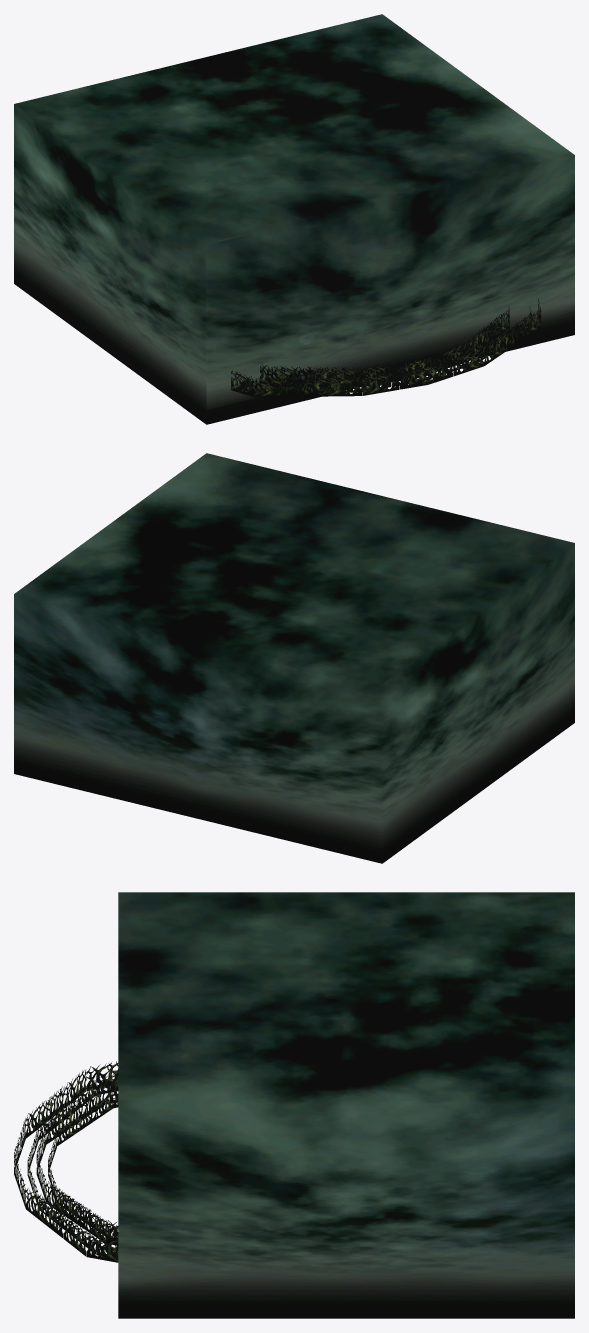
File: forest.glb
3 renders of one model, top to bottom at view 1: azimuth 30°, elevation 25°; view 2: azimuth 150°, elevation 25°; view 3: azimuth 270°, elevation 25°, orthographic. The views are drawn at different scales.
Visible parts, largest first — view 1: opwf_bg; view 2: opwf_bg; view 3: opwf_bg.
Boxes of the visible parts, x1,y1,x2,y2 form: opwf_bg: (14, 14, 574, 424); opwf_bg: (14, 453, 574, 863); opwf_bg: (14, 892, 574, 1318).
Size of the model in its own units: 26730 by 12470 by 29747.
9 materials, 9 textured.
